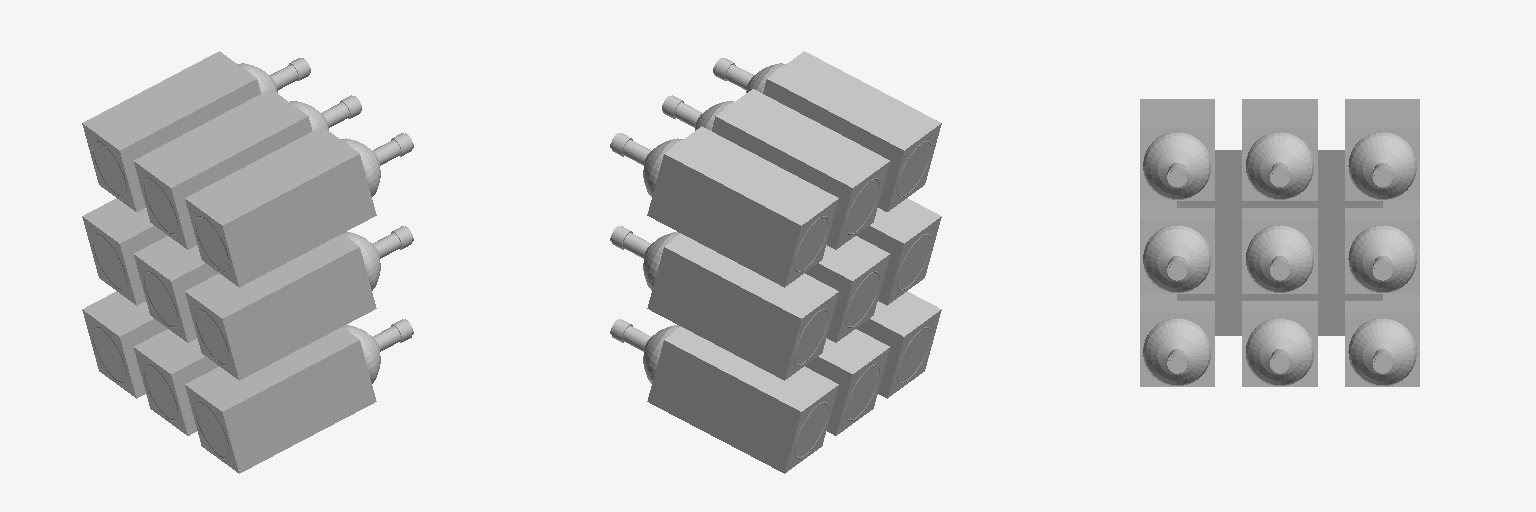
File: render02.obj
The picture shows the model from 3 angles: view 1: azimuth 30°, elevation 25°; view 2: azimuth 150°, elevation 25°; view 3: azimuth 270°, elevation 25°; orthographic projection.
Visible parts, largest first — view 1: Plane; view 2: Plane; view 3: Plane.
Boxes of the visible parts, x1,y1,x2,y2 form: Plane: [82, 51, 413, 473]; Plane: [610, 51, 941, 473]; Plane: [1140, 99, 1419, 386].
Bounding box in the file's own units: 1.4 × 1.87 × 1.64.